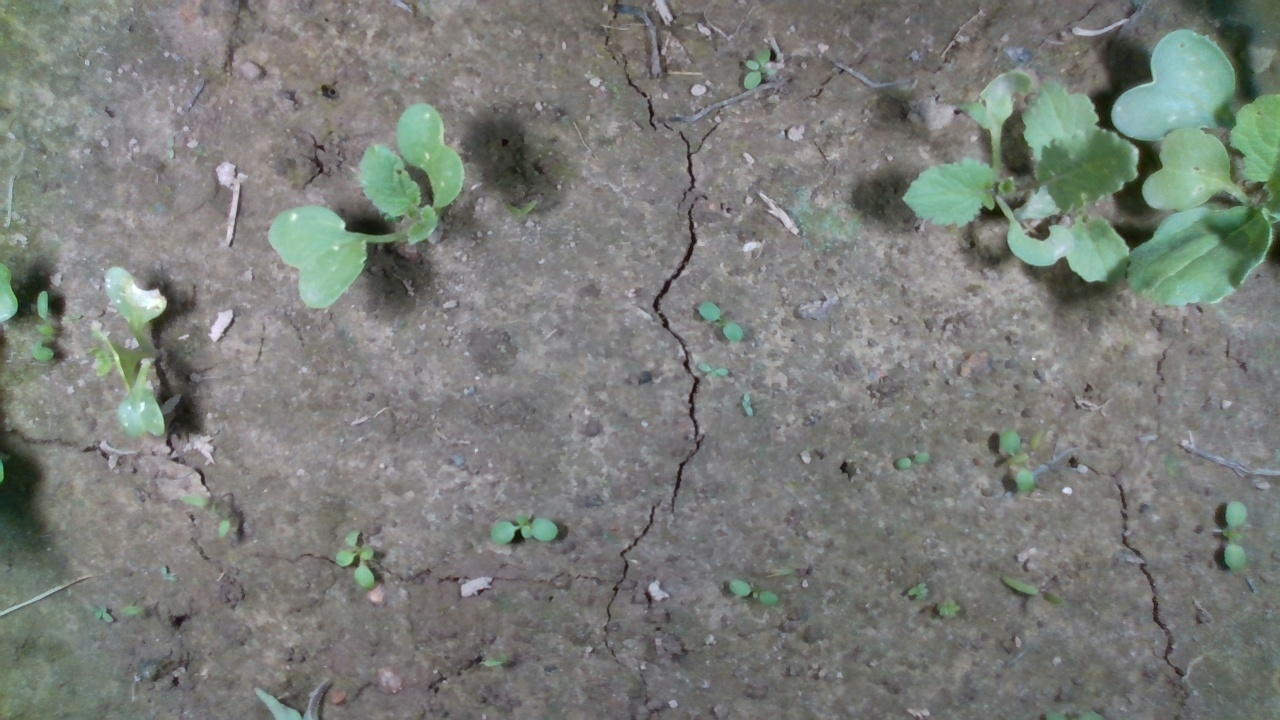weed: (333, 527, 378, 591), (488, 512, 561, 547), (697, 299, 745, 344), (1223, 497, 1249, 574), (740, 42, 774, 92), (726, 576, 780, 607), (893, 449, 931, 471), (695, 362, 728, 380), (738, 390, 754, 420)
